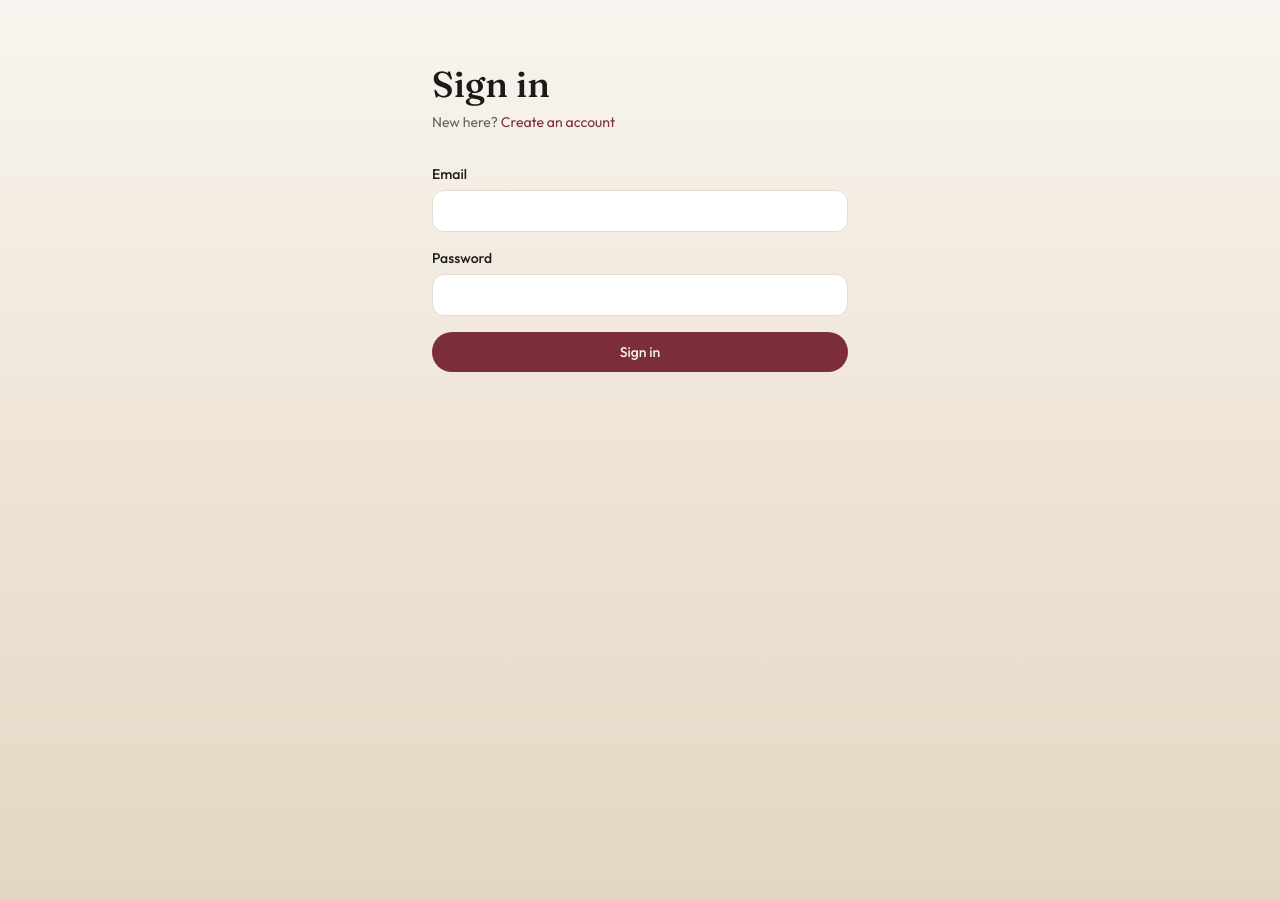
LoginPage › shows the API message when credentials are rejected
Type "admin@example.com" into the field labelled "Email". click: coordinates (640, 211)
box: [432, 190, 848, 232]
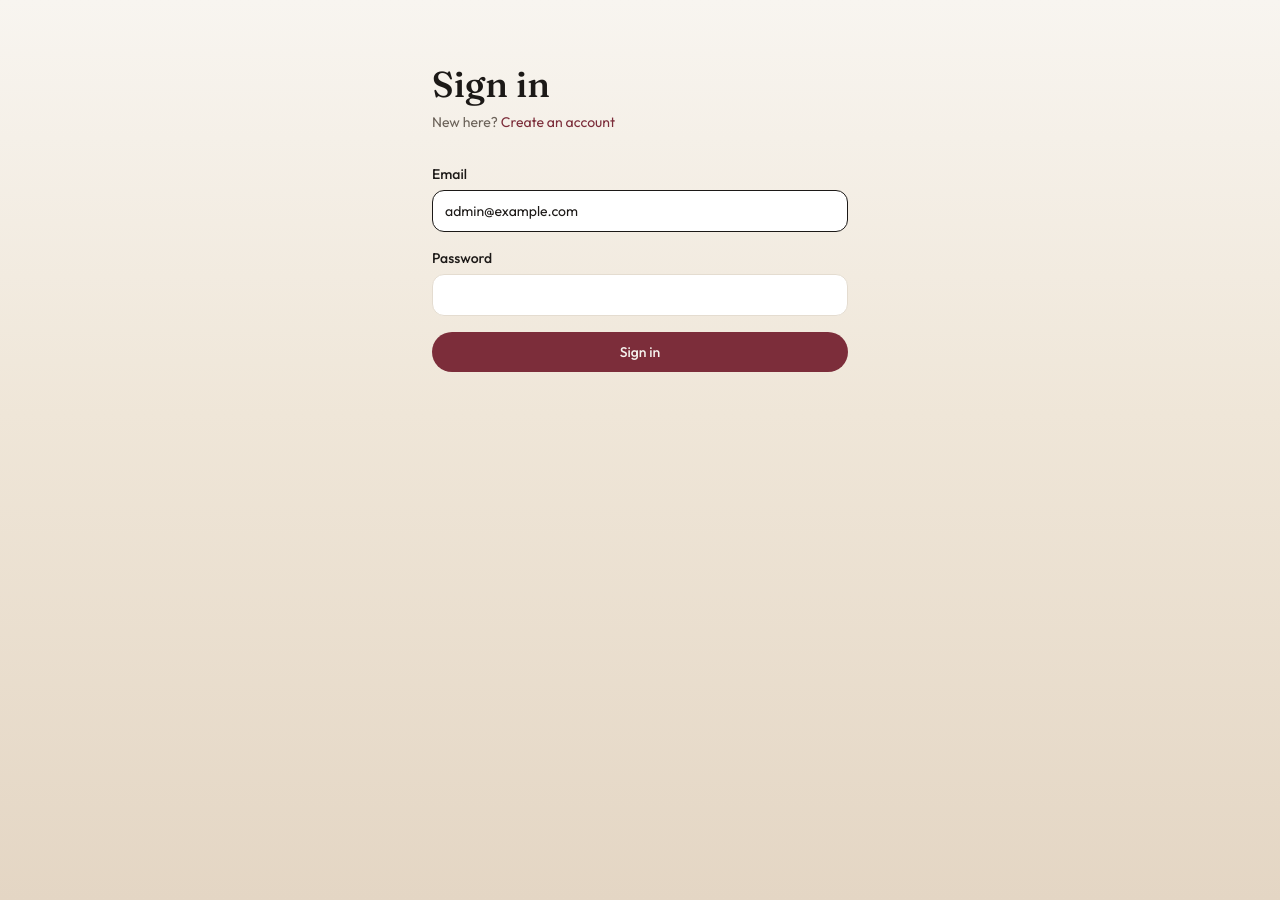
Type "wrong-password" into the password field labelled "Password". click: coordinates (640, 295)
box: [432, 274, 848, 316]
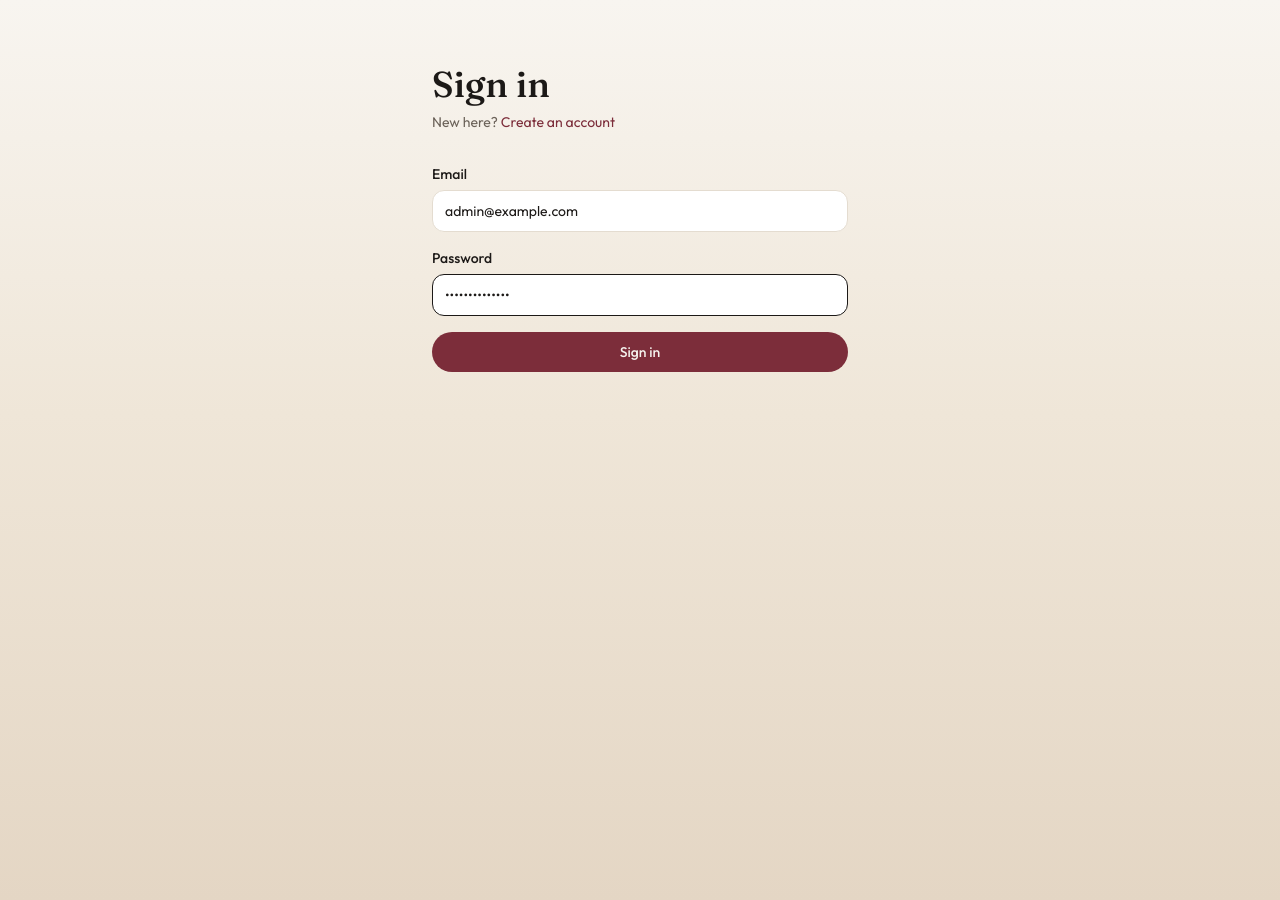
Click the button "Sign in". click: coordinates (640, 352)
box: [432, 332, 848, 372]
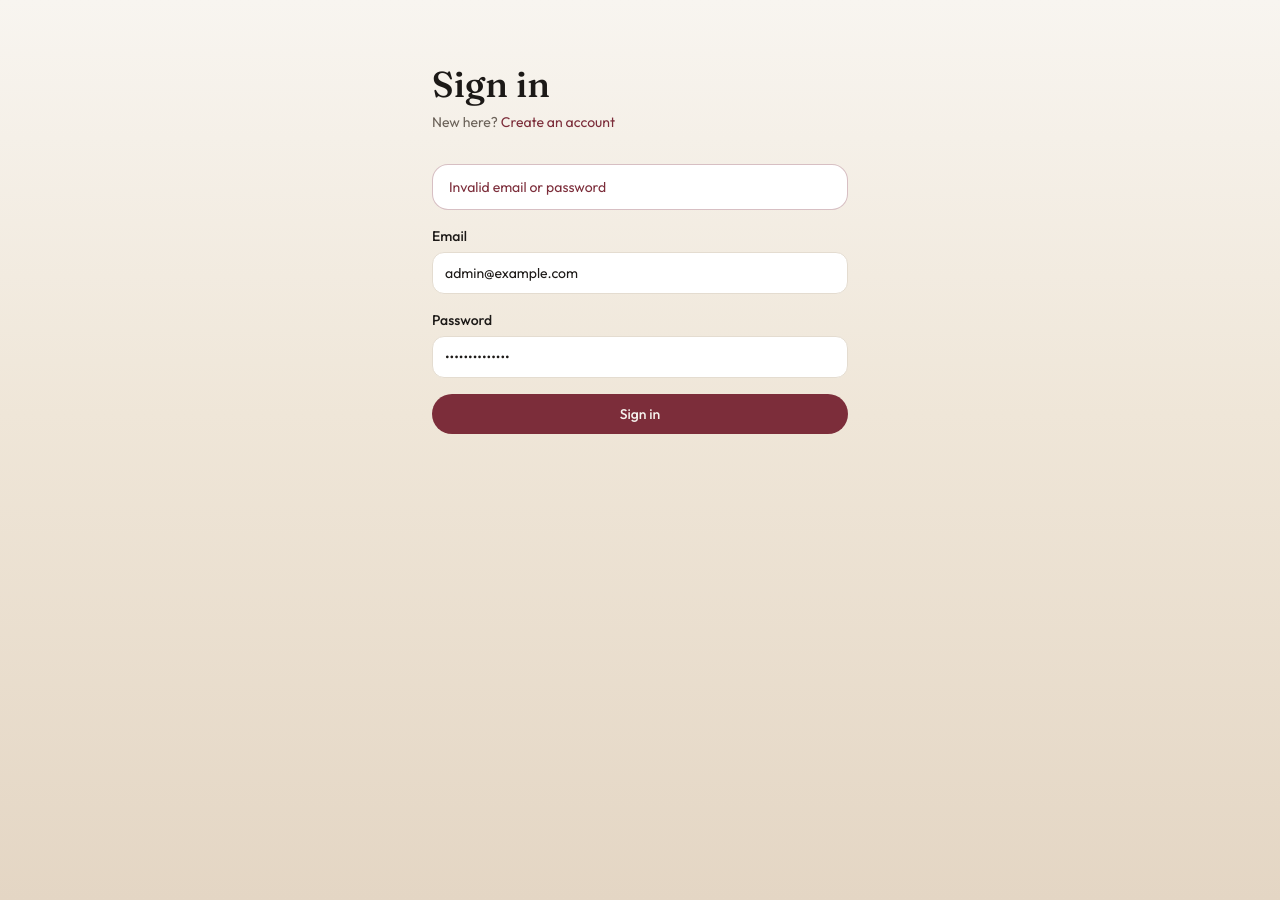
Expected: the message reads "Invalid email or password", [449, 178, 606, 196]
